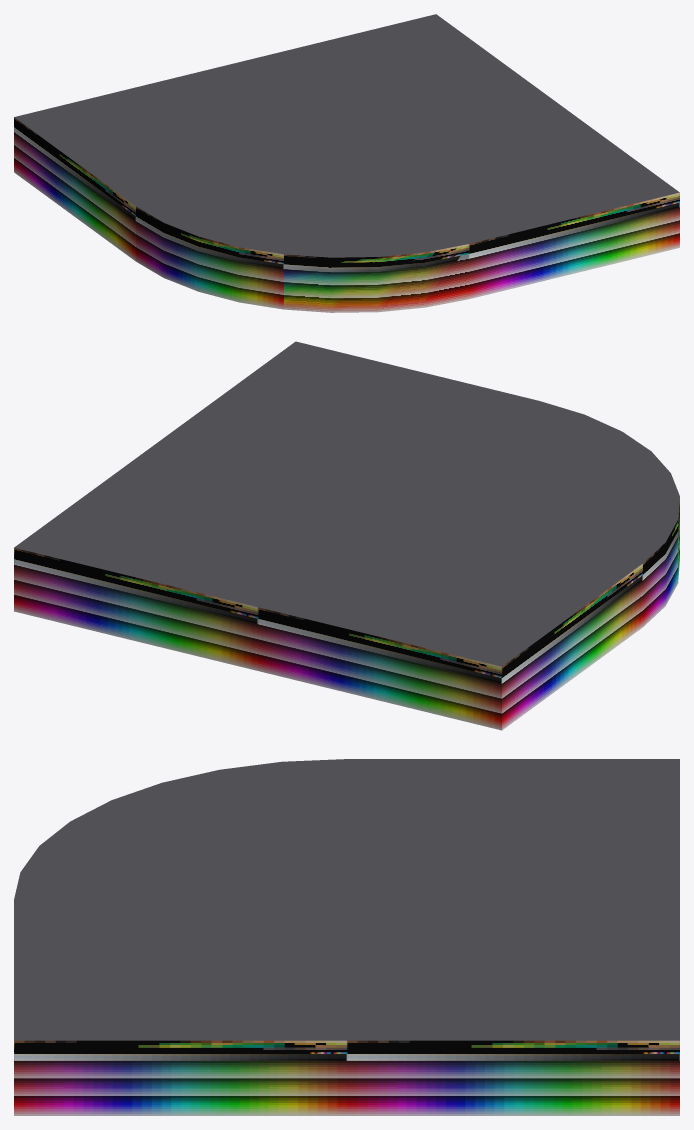
Rendered from GrassCorner.fbx.
3 renders of one model, top to bottom at view 1: azimuth 30°, elevation 25°; view 2: azimuth 150°, elevation 25°; view 3: azimuth 270°, elevation 25°, orthographic. The views are drawn at different scales.
Parts seen in each view (by area): view 1: GrassCorner; view 2: GrassCorner; view 3: GrassCorner.
Boxes of the visible parts, <box> form: GrassCorner: <box>14,14,679,312</box>; GrassCorner: <box>14,341,679,730</box>; GrassCorner: <box>14,759,679,1115</box>.
Bounding box in the file's own units: 400 × 50 × 400.
